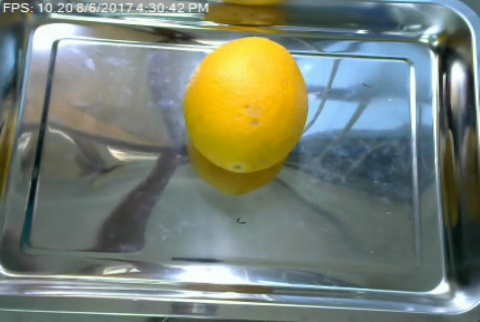Orange: (183, 37, 309, 174)
